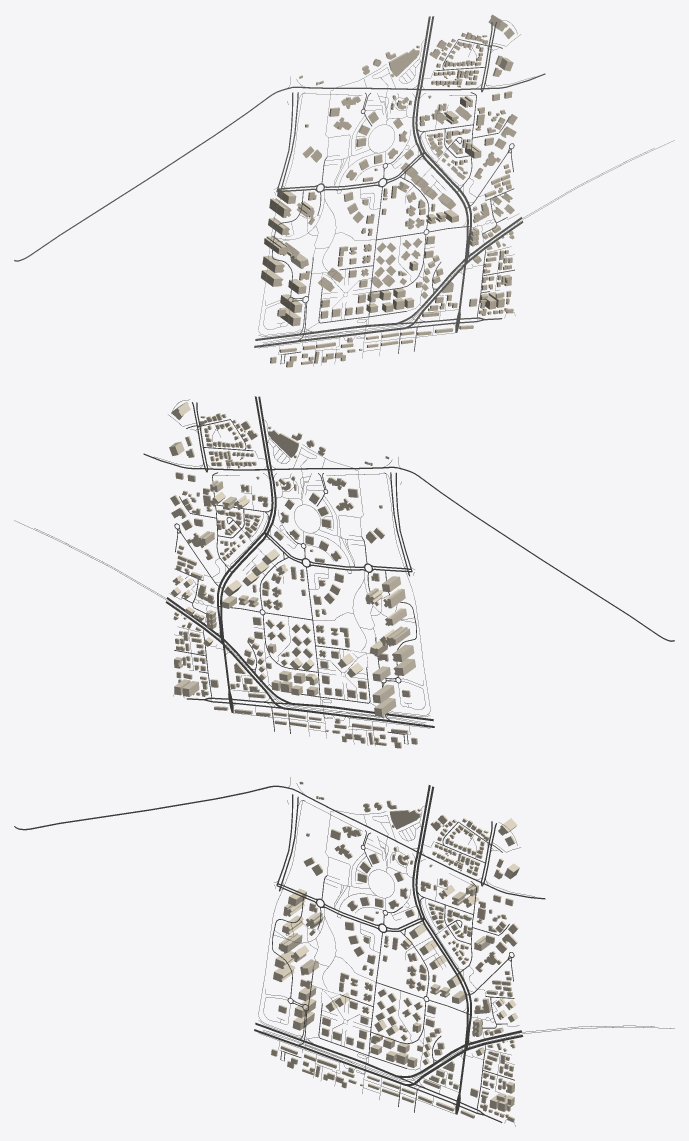
File: historic-palestine-07_26_3487_3209.glb
The picture shows the model from 3 angles, top to bottom: view 1: azimuth 30°, elevation 25°; view 2: azimuth 150°, elevation 25°; view 3: azimuth 330°, elevation 25°; orthographic projection.
Visible parts, largest first — view 1: Road אבשלום גיסין; view 2: Road אבשלום גיסין; view 3: Road אבשלום גיסין.
Boxes of the visible parts, bbox=[...] form: Road אבשלום גיסין: bbox=[14, 73, 545, 261]; Road אבשלום גיסין: bbox=[143, 453, 674, 641]; Road אבשלום גיסין: bbox=[14, 785, 545, 899].
Size of the model in its own units: 2626 by 1260 by 102.
